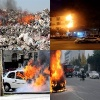fire: (16, 61, 50, 89), (50, 52, 67, 92), (17, 13, 41, 25), (0, 9, 12, 26), (66, 15, 75, 27)
